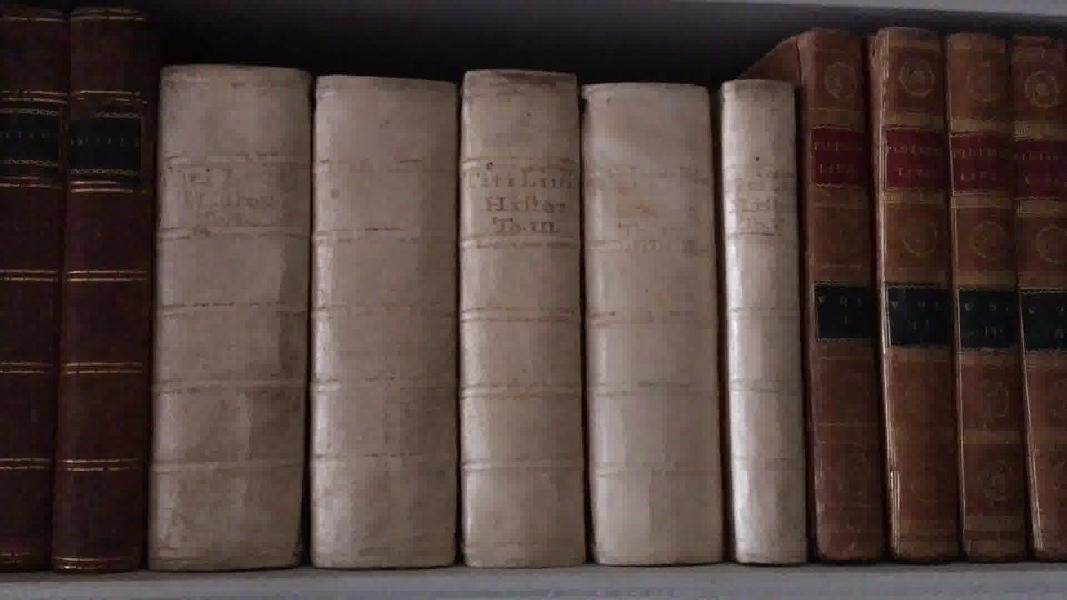Kk4-1_2: (2, 8, 156, 584)
Kk4-3_7: (152, 50, 812, 586)
Kk4-8_13: (782, 15, 1067, 575)
